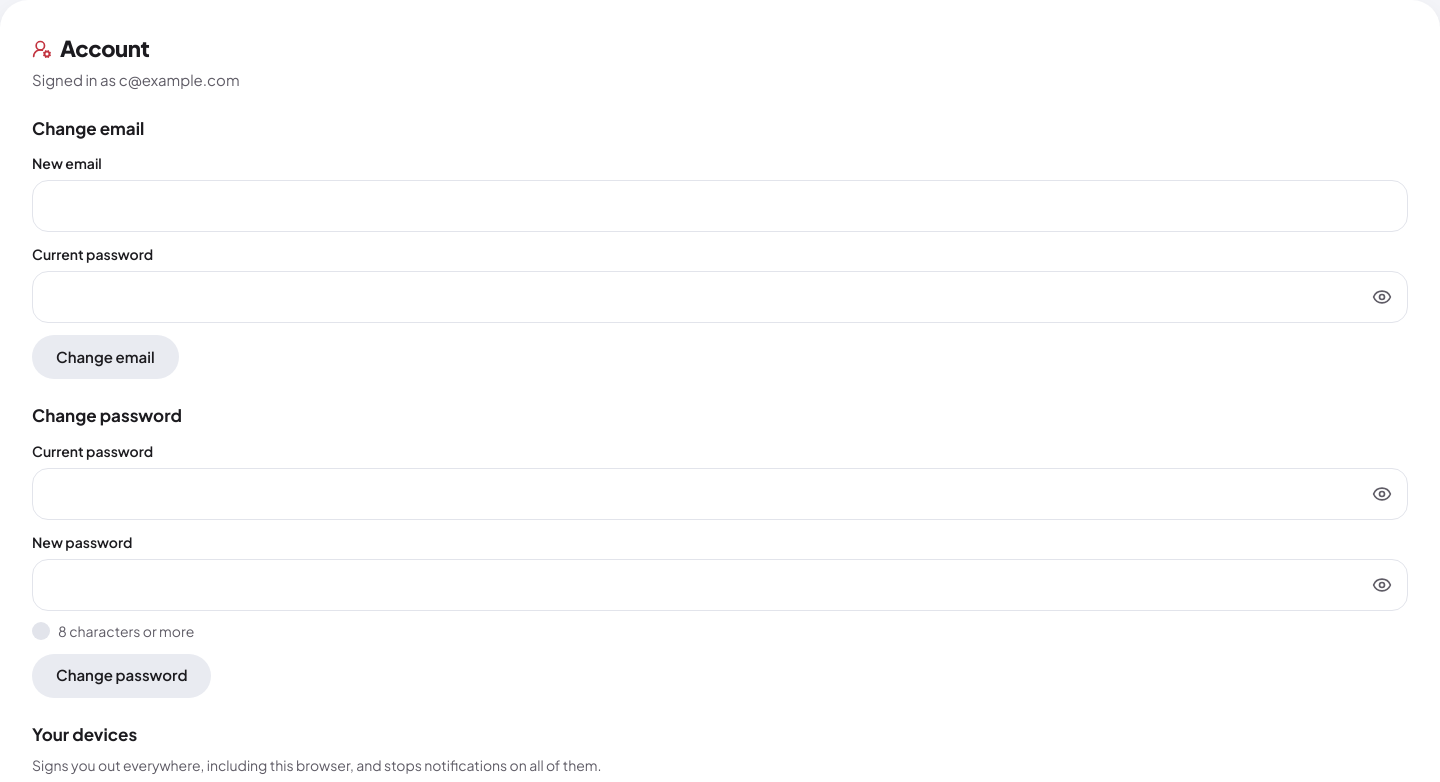
Test: Settings → Account › a wrong password shows on the password field
In the field labelled "New email": [720, 206] box [32, 180, 1408, 232], type "new@example.com"
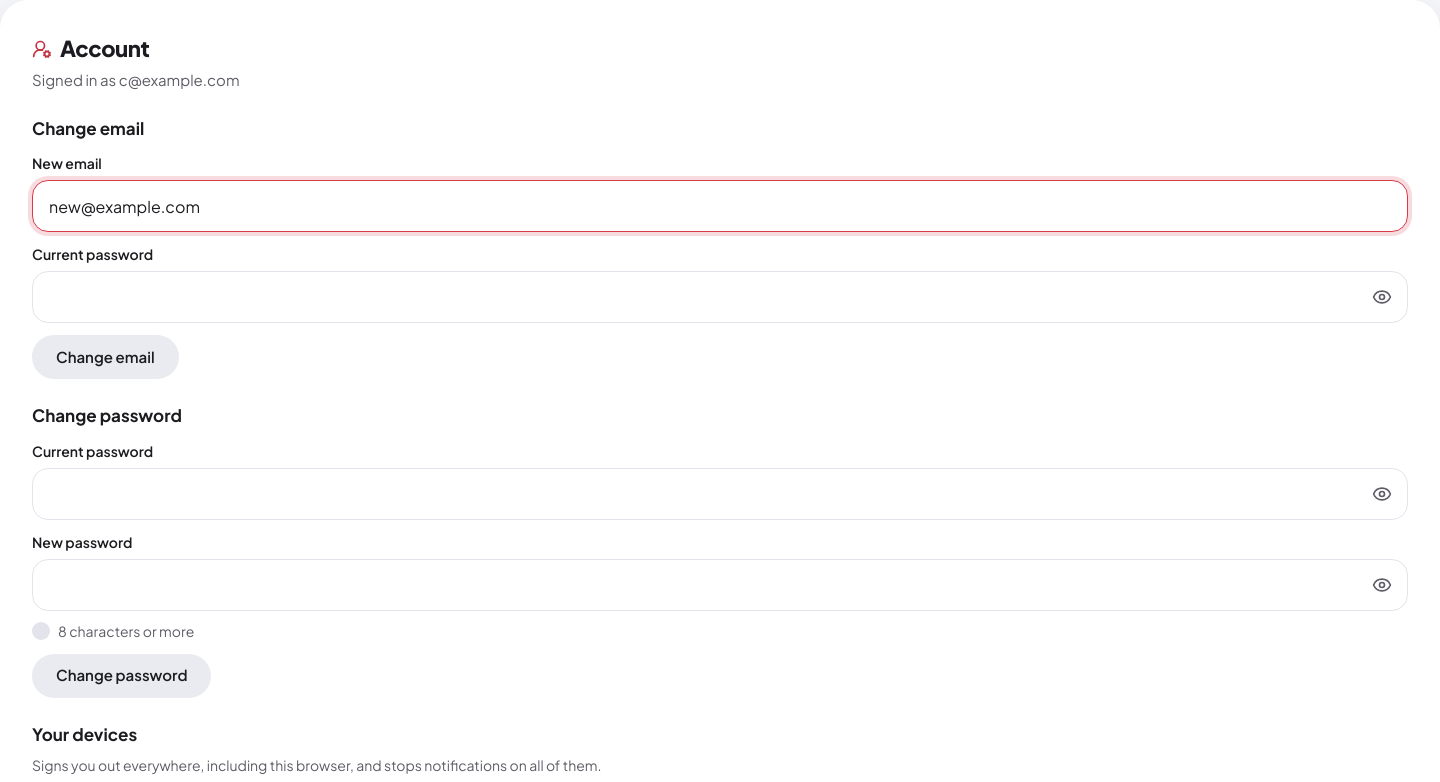
Click the button "Change email": [105, 357] box [32, 335, 179, 379]
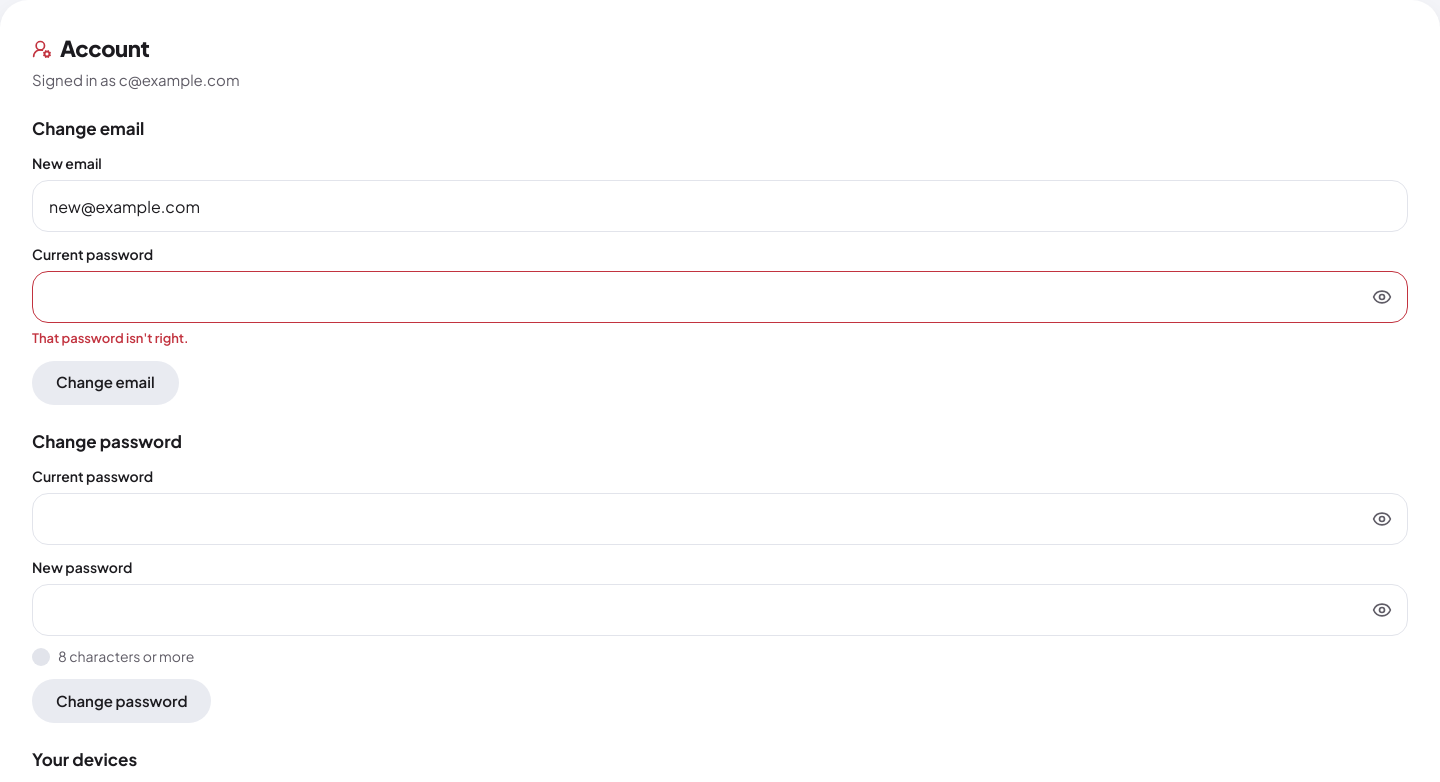
Result: the text "That password isn't right." is shown at [31, 329, 189, 346]
